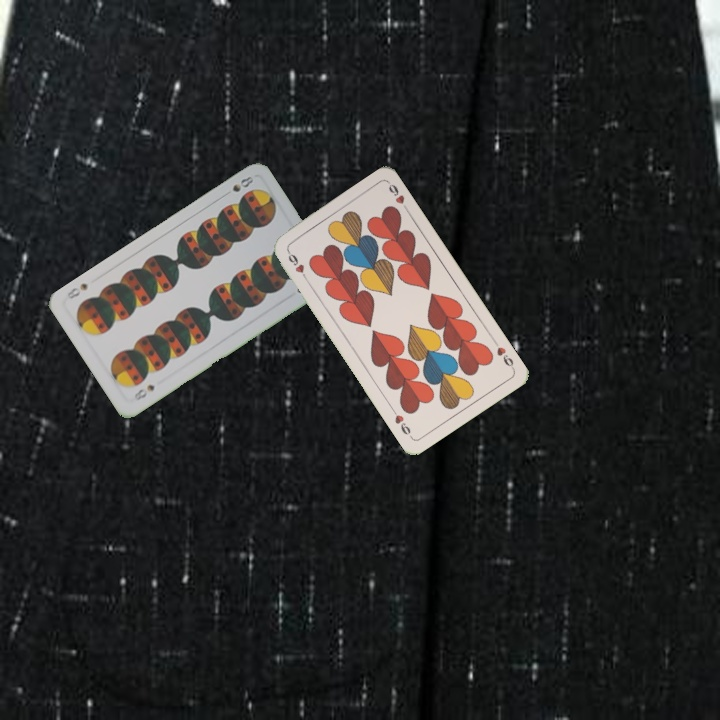H9: (489, 336, 517, 372), (283, 247, 310, 283)
S8: (228, 172, 256, 195), (130, 380, 157, 403)
